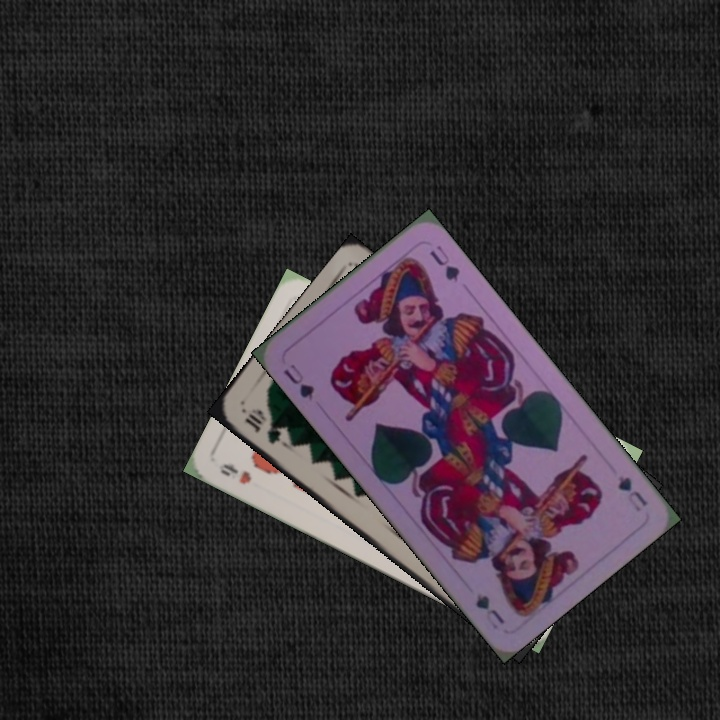G10: (240, 404, 284, 447)
GU: (279, 359, 317, 403), (614, 471, 650, 515)
H9: (215, 459, 254, 487)
